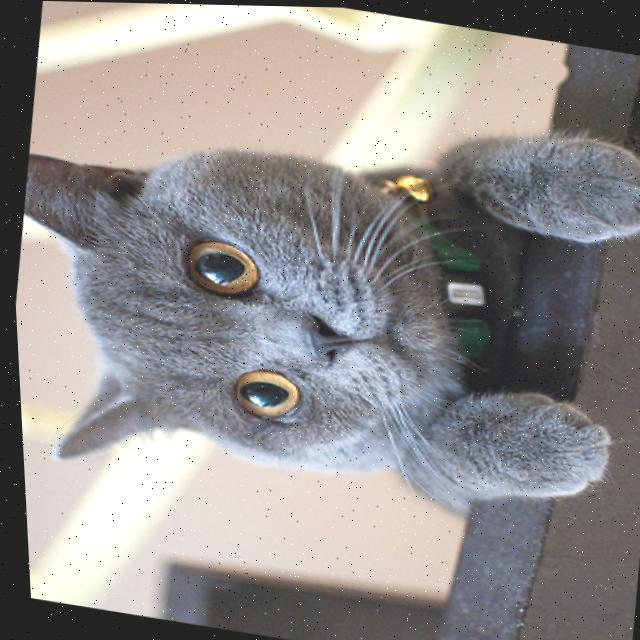British Shorthair: (2, 45, 640, 552)
